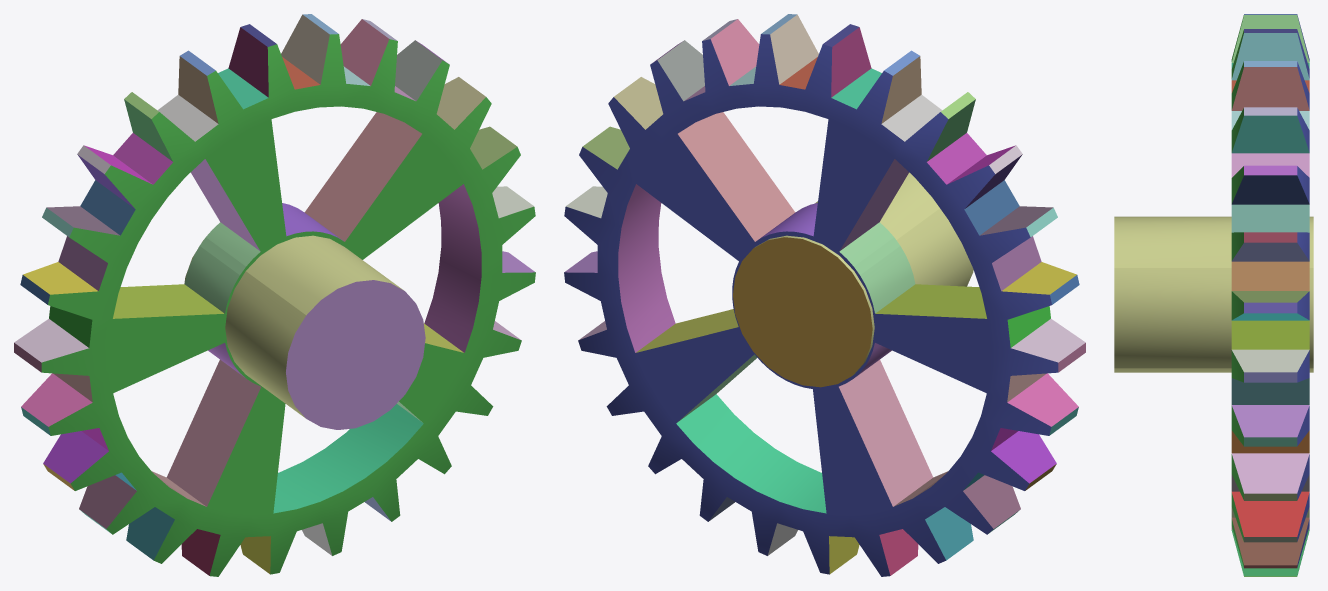
Rendered from module-timer-04.glb.
3 views of the same model, side by side, from view 1: azimuth 30°, elevation 25°; view 2: azimuth 150°, elevation 25°; view 3: azimuth 270°, elevation 25° (orthographic). The views are drawn at different scales.
Size of the model in its own units: 0.7071 by 0.7235 by 0.255.
